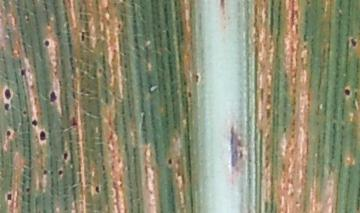tarspot: (3, 87, 13, 101), (38, 130, 47, 143), (70, 114, 79, 127), (49, 90, 57, 103), (350, 36, 357, 49), (2, 102, 11, 112), (79, 30, 86, 42), (4, 130, 12, 139), (6, 192, 13, 202), (61, 152, 69, 160), (31, 118, 38, 127), (194, 73, 200, 83), (343, 88, 350, 96), (123, 61, 128, 71), (219, 1, 225, 9), (43, 39, 49, 47), (167, 157, 173, 165), (94, 185, 100, 193), (42, 168, 48, 176), (21, 110, 28, 116), (57, 169, 63, 175), (24, 187, 31, 192), (121, 51, 128, 56), (20, 69, 25, 75)
